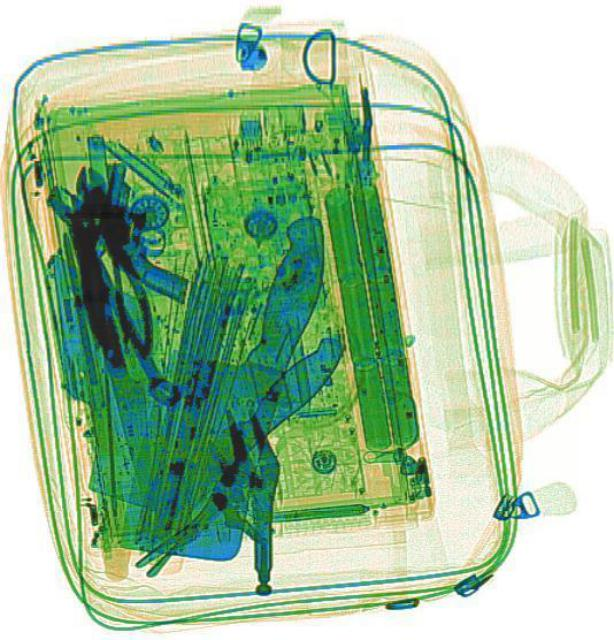Gun: (75, 160, 216, 300)
Knife: (110, 188, 335, 574), (122, 328, 354, 546)
